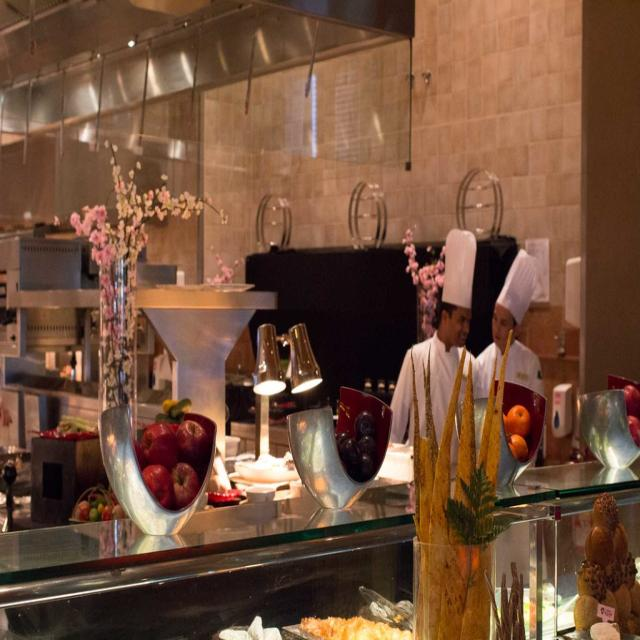Healty Apple: (142, 421, 176, 469), (142, 464, 176, 508), (176, 418, 210, 461), (172, 462, 201, 506), (624, 382, 640, 413), (626, 415, 640, 448), (134, 440, 144, 470)
